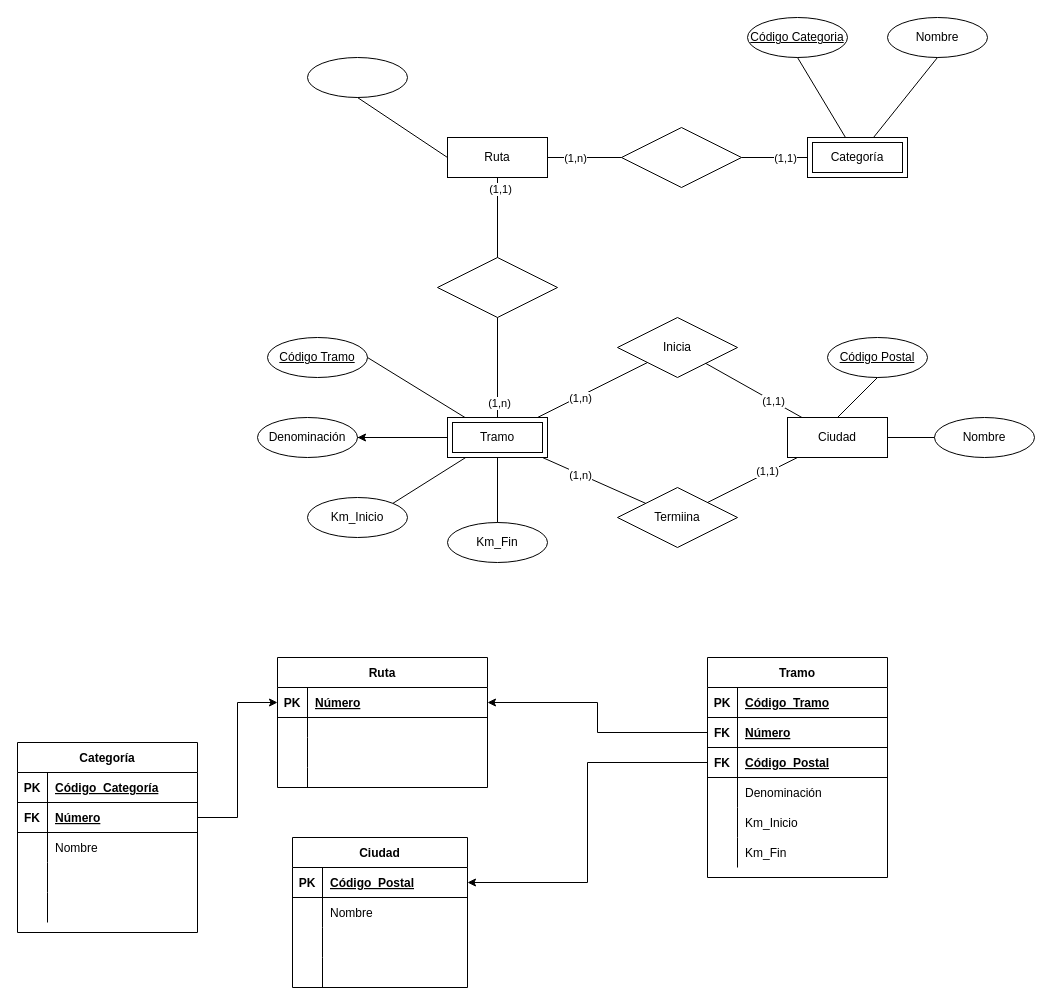
Some shapes in this 1052 by 1005 pixel diagram are drawn without their labels. Each missing label, with the centre of its shape:
"Compuesta por" goes at pixel 497 287.
"Numero" goes at pixel 357 77.
"Pertenece a" goes at pixel 681 157.
